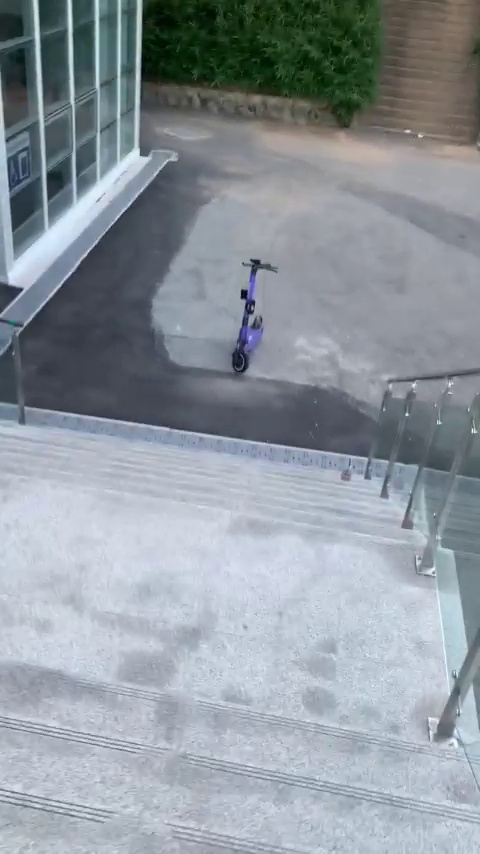beam: (230, 256, 285, 377)
